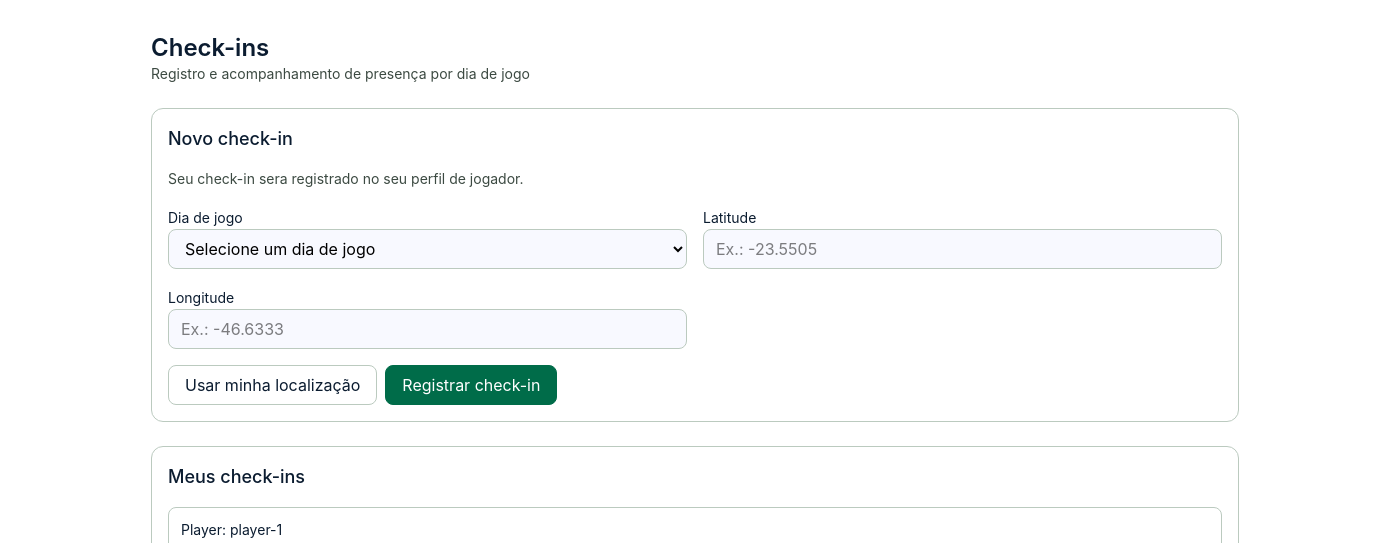
Scenario: CheckinsPage › deve exibir mensagem quando usuário não possui perfil de jogador ativo
This screenshot has width=1378, height=543.
Select "05/05/2026 - Confirmed" in the dropdown labelled "Dia de jogo": {"x": 428, "y": 249} [168, 229, 687, 269]
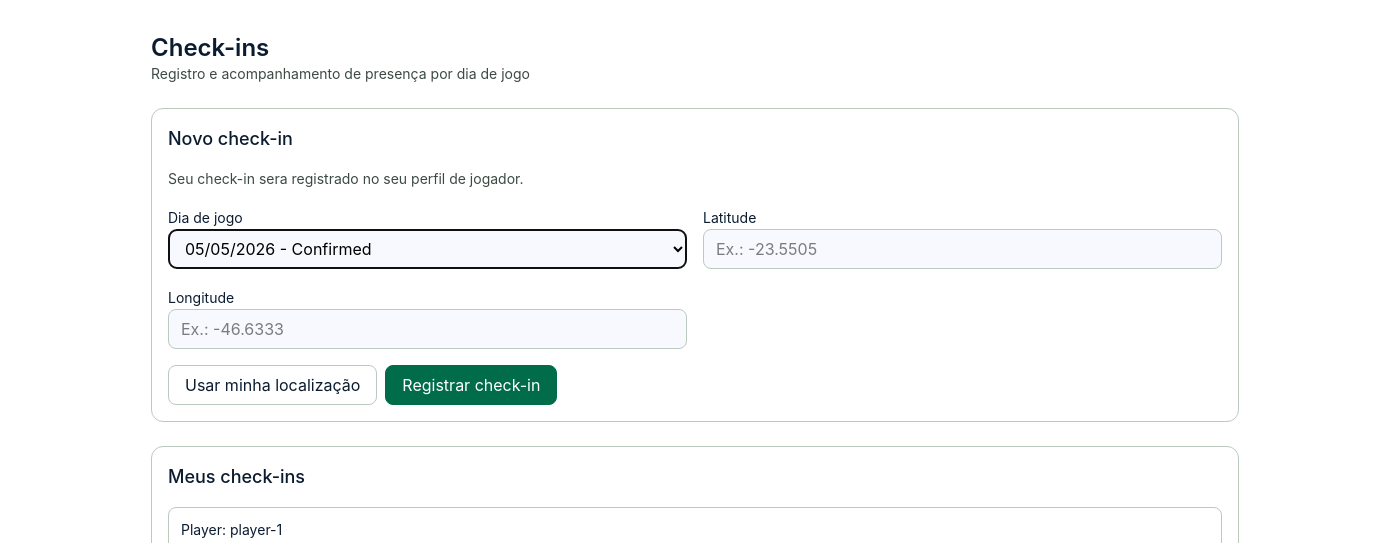
In the number field labelled "Latitude": {"x": 962, "y": 249} [703, 229, 1222, 269], type "-23.5505"
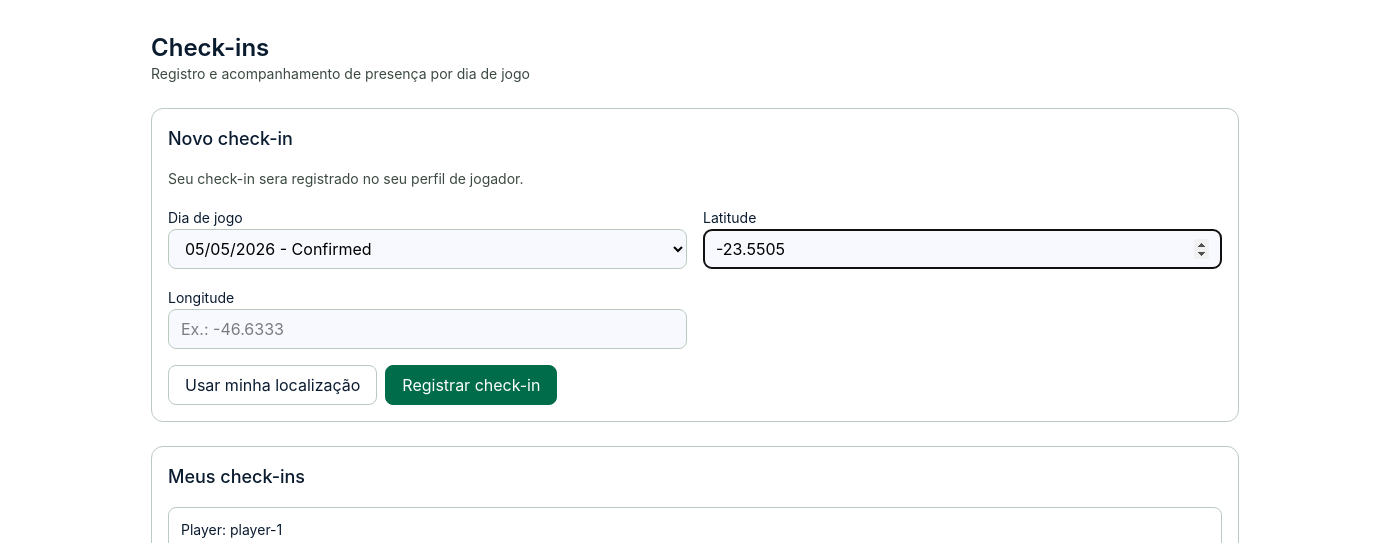
In the number field labelled "Longitude": {"x": 428, "y": 329} [168, 309, 687, 349], type "-46.6333"
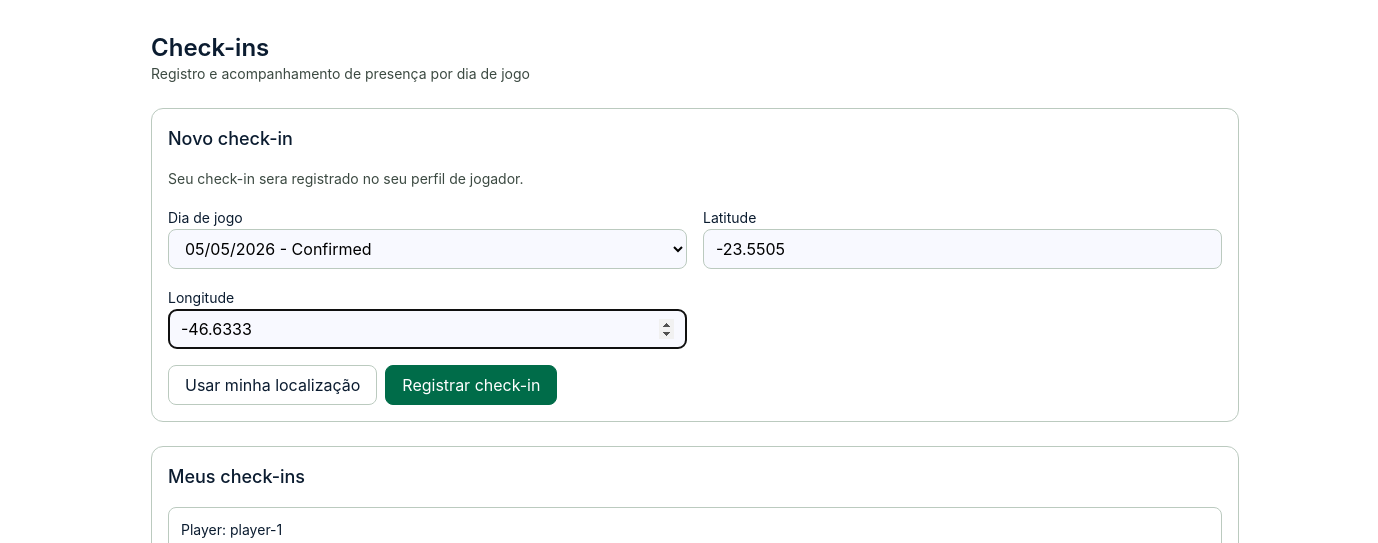
Click the button "Registrar check-in": {"x": 471, "y": 385} [385, 365, 557, 405]
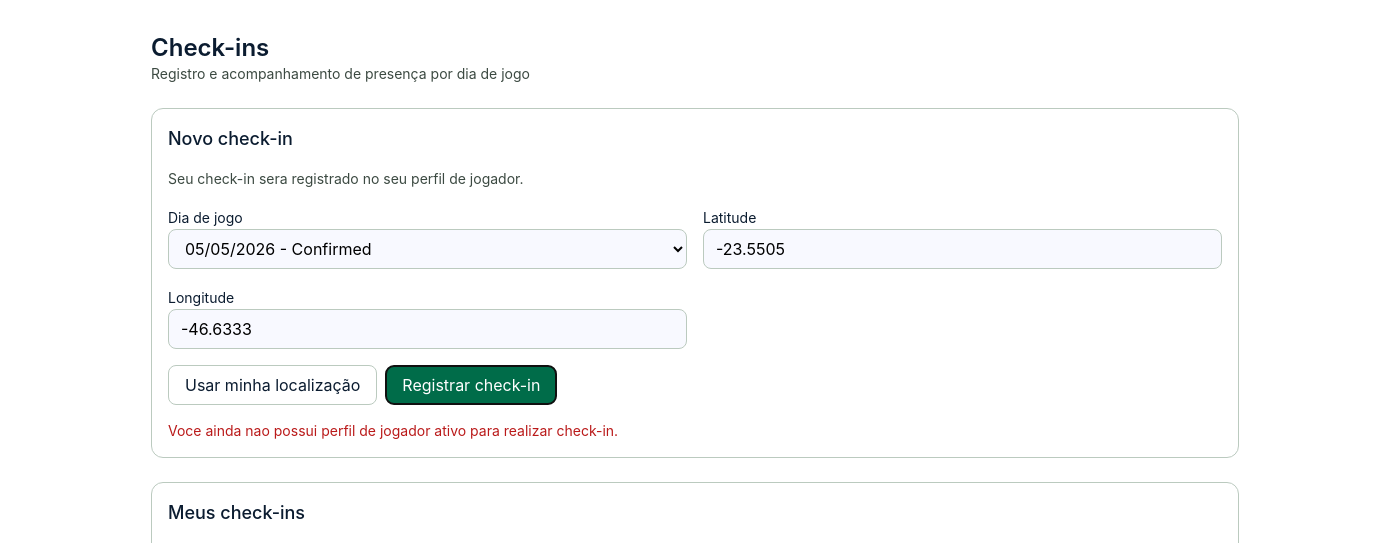
expect the text "Voce ainda nao possui perfil de jogador ativo" is shown: met, box [168, 422, 618, 439]
